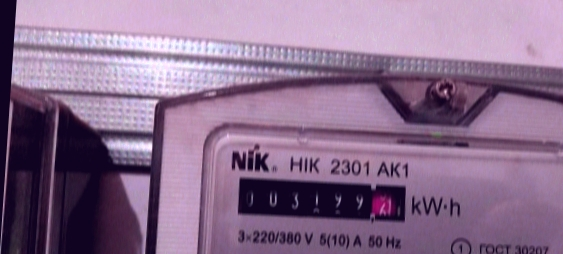0: (265, 186, 277, 206), (242, 186, 252, 204)
1: (309, 186, 319, 205)
3: (287, 188, 298, 208)
6: (375, 198, 385, 213)
9: (330, 186, 341, 207), (352, 190, 363, 209)
screen: (227, 164, 412, 230)
